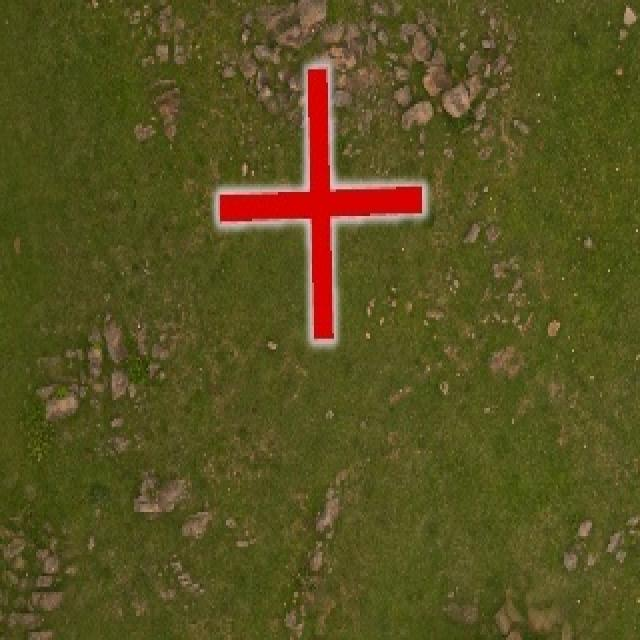x_marker: (217, 65, 423, 340)
